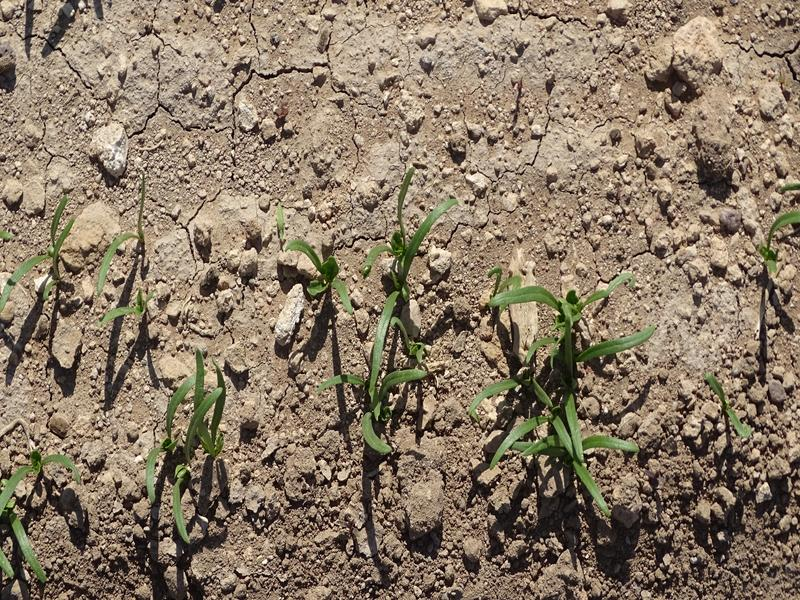Espinaca: (292, 164, 459, 456), (487, 270, 642, 507), (135, 347, 227, 543), (1, 449, 81, 581), (95, 165, 152, 328), (3, 192, 76, 306)
